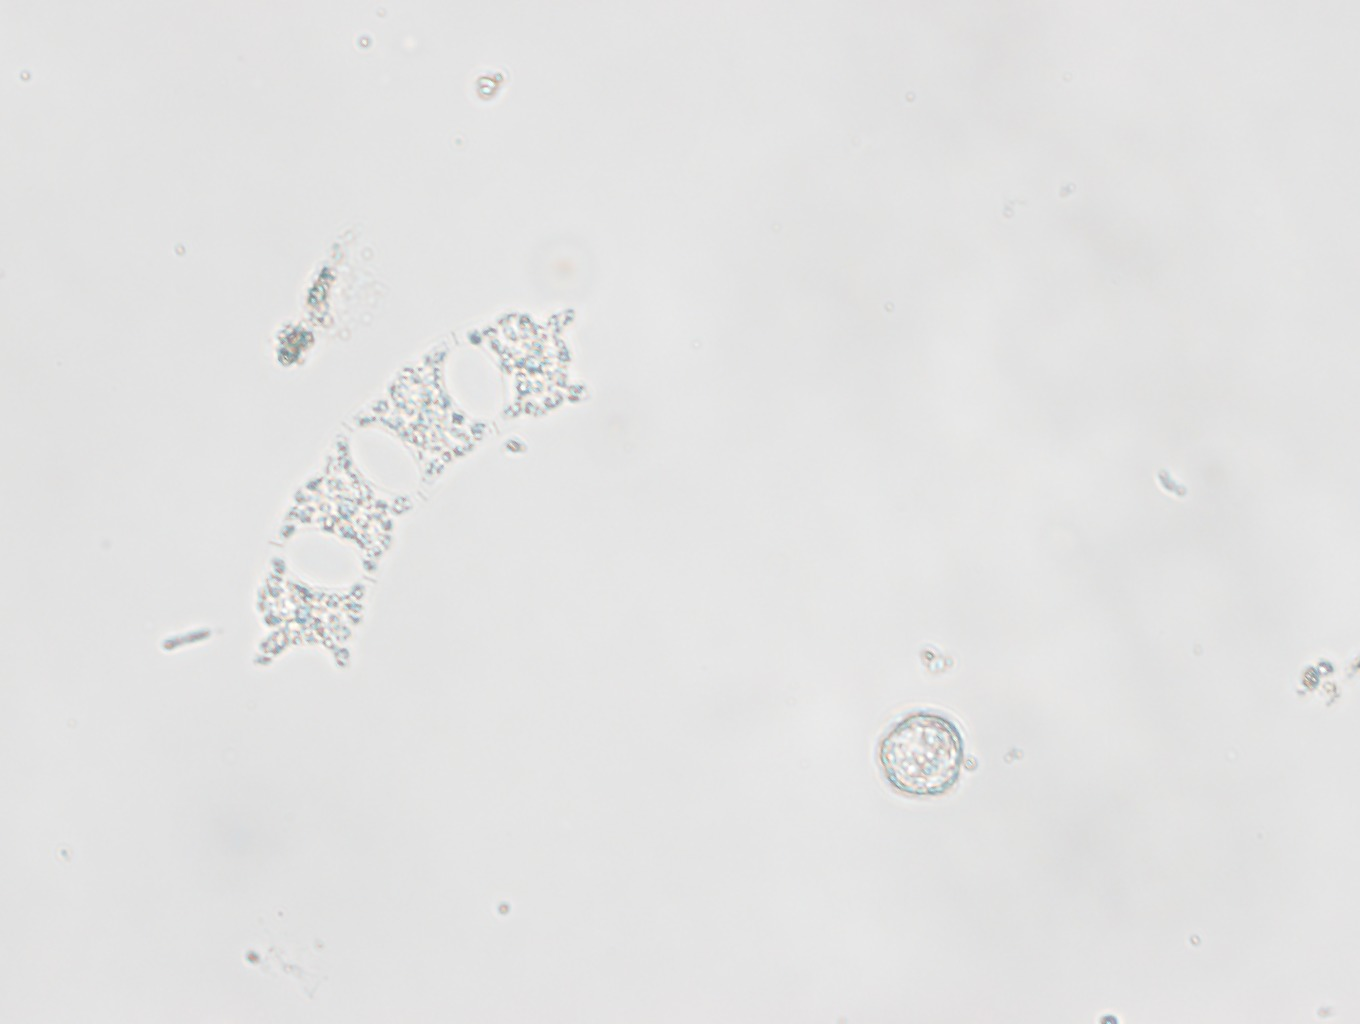eucampia: (247, 305, 586, 673)
